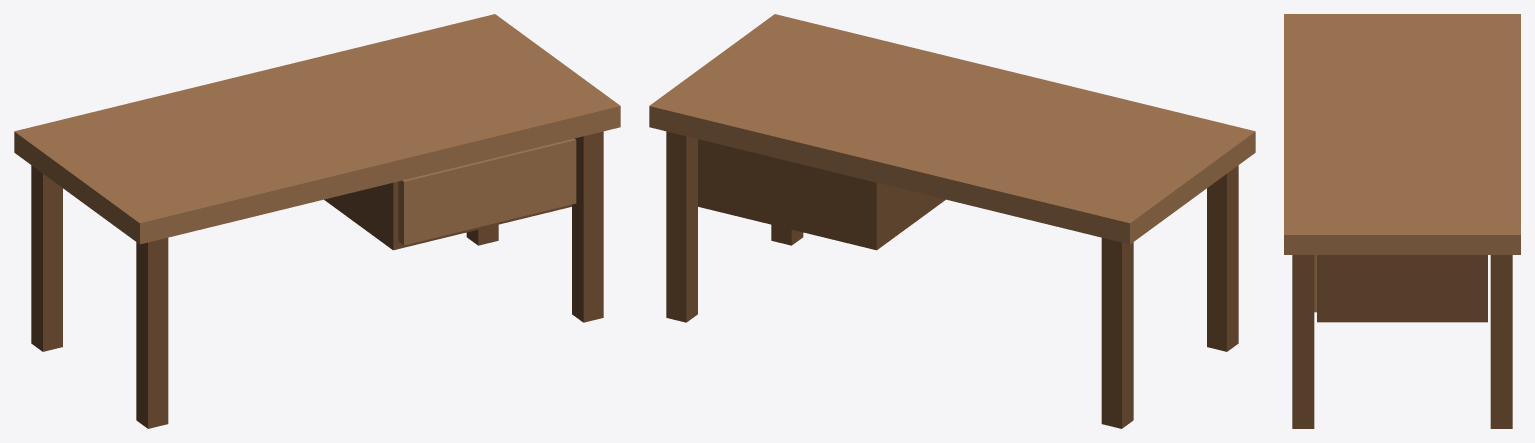
The model's file is desk-modern-01.glb.
3 renders of one model, left to right at view 1: azimuth 30°, elevation 25°; view 2: azimuth 150°, elevation 25°; view 3: azimuth 270°, elevation 25°, orthographic. The views are drawn at different scales.
Parts seen in each view (by area): view 1: top, drawer-front, leg--0.86-0.36, leg-0.86-0.36, leg--0.86--0.36, drawer; view 2: top, drawer, leg--0.86--0.36, leg-0.86--0.36, leg--0.86-0.36; view 3: top, drawer, leg-0.86--0.36, leg-0.86-0.36.
Part boxes in pixels (x1,y1,x2,y2): top: (14,14,620,244); drawer-front: (398,138,576,245); leg--0.86-0.36: (136,237,168,428); leg-0.86-0.36: (572,131,603,322); leg--0.86--0.36: (31,165,62,351); drawer: (324,181,571,250); top: (649,14,1255,244); drawer: (698,139,945,250); leg--0.86--0.36: (1101,237,1133,428); leg-0.86--0.36: (666,131,697,322); leg--0.86-0.36: (1207,165,1238,351); top: (1284,14,1520,254); drawer: (1317,255,1487,322); leg-0.86--0.36: (1490,255,1512,428); leg-0.86-0.36: (1292,255,1314,428).
Bounding box in the file's own units: 1.9 × 0.8 × 0.86.
